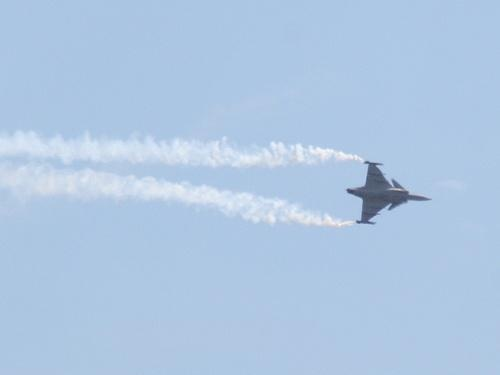aeroplane: (347, 161, 433, 225)
